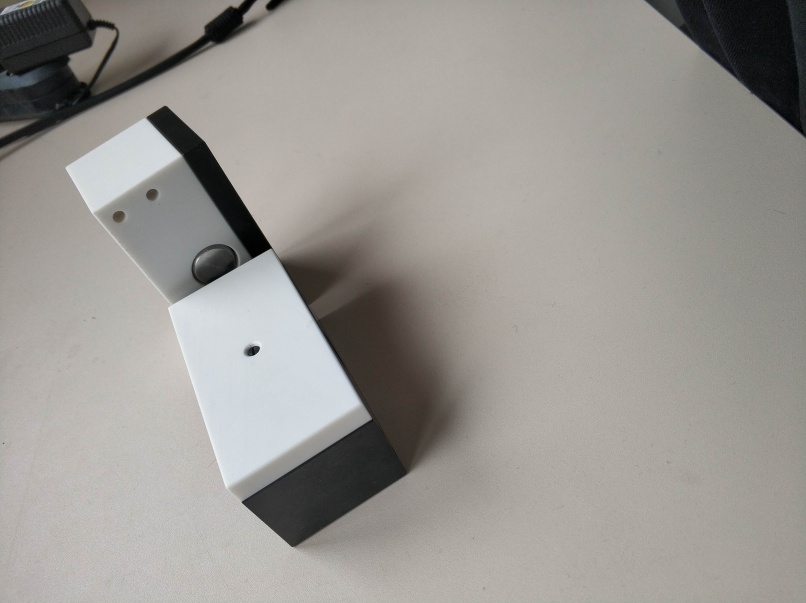black+white+silver: (63, 105, 275, 305)
